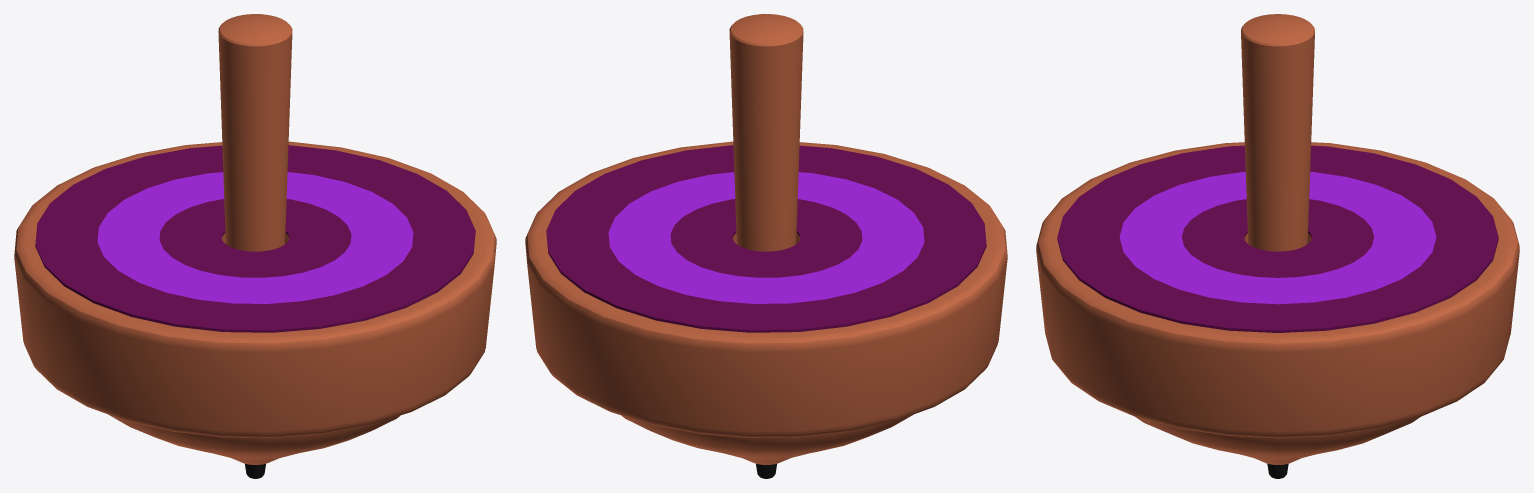
Rendered from Spinner.FBX.
3 renders of one model, left to right at view 1: azimuth 30°, elevation 25°; view 2: azimuth 150°, elevation 25°; view 3: azimuth 270°, elevation 25°, orthographic.
Parts seen in each view (by area): view 1: Spindle010; view 2: Spindle010; view 3: Spindle010.
Part boxes in pixels (box(x1,y1,x2,y2)): Spindle010: box(14, 14, 496, 478); Spindle010: box(525, 14, 1007, 478); Spindle010: box(1036, 14, 1519, 478).
Size of the model in its own units: 491 by 507 by 491.
